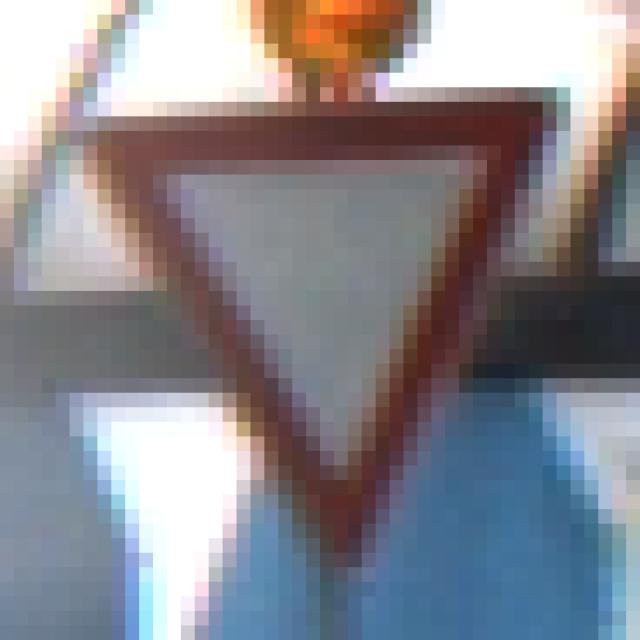Give Way: (71, 74, 572, 568)
